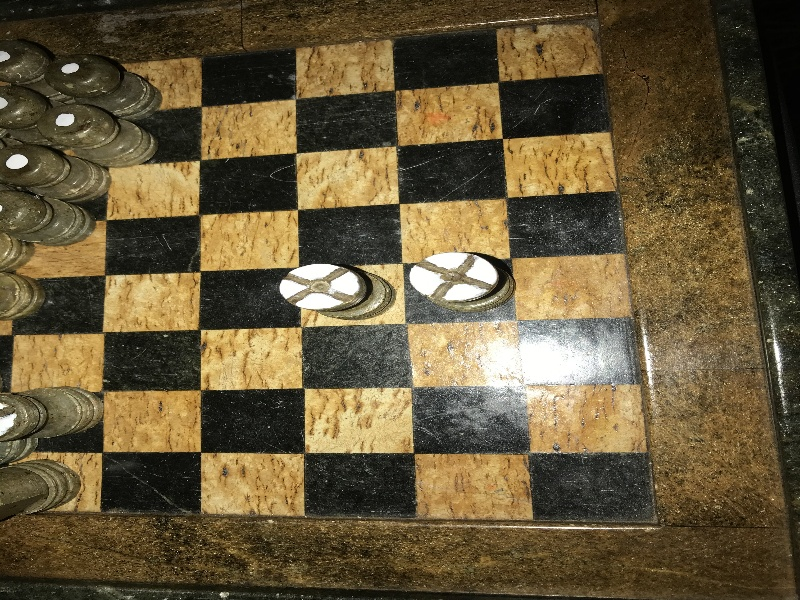WhiteBishop: (280, 262, 394, 321), (409, 253, 514, 311)
